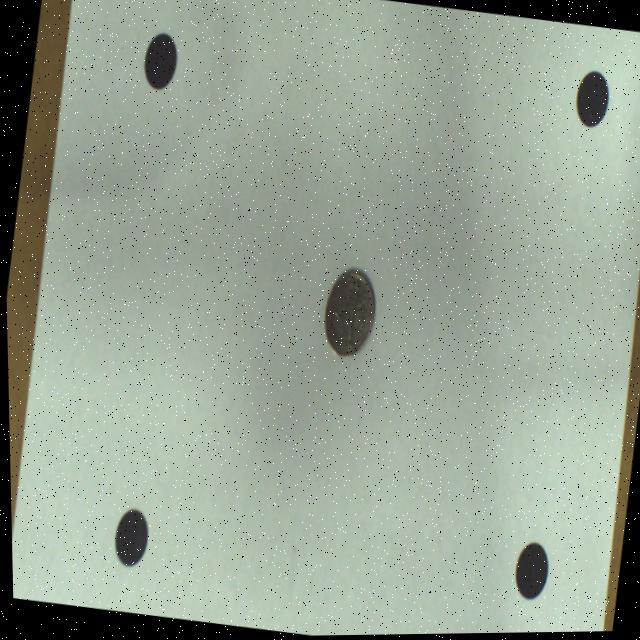space: (512, 545, 546, 602), (112, 510, 146, 567), (576, 73, 609, 130), (144, 34, 177, 91)
tail5bath: (323, 270, 374, 358)
